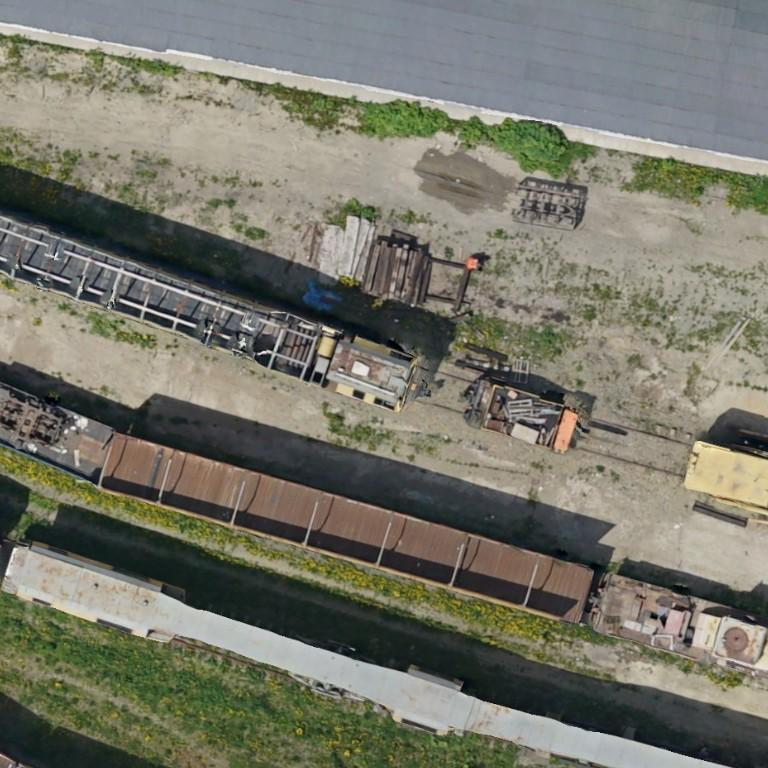hogweed: (464, 116, 569, 175), (363, 102, 448, 135)
